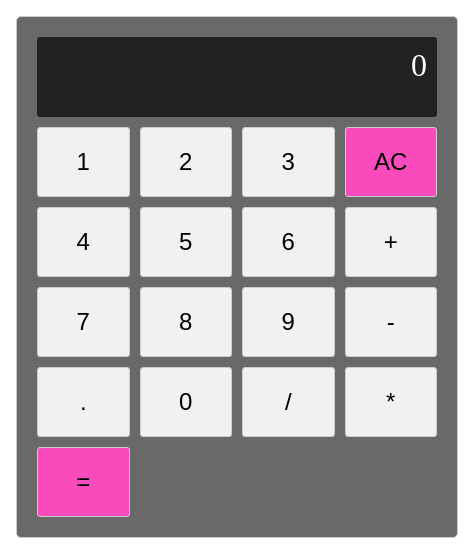
Test: handles decimal input correctly
Click the button "1" at x=83, y=162, box [37,127,130,197]
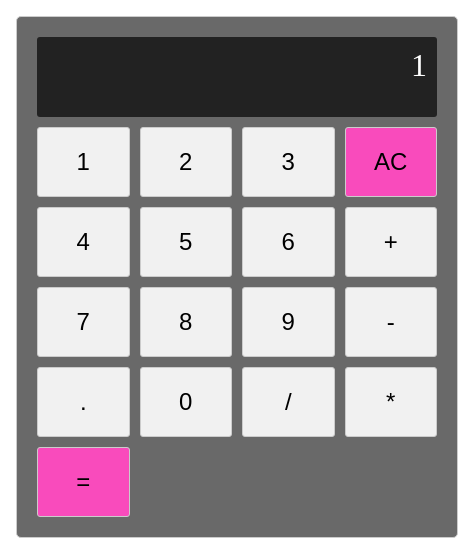
Click the button "." at x=83, y=402, box [37,367,130,437]
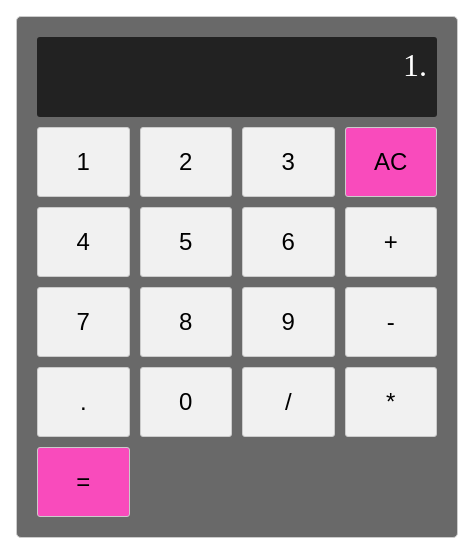
Click the button "2" at x=186, y=162, box [140,127,232,197]
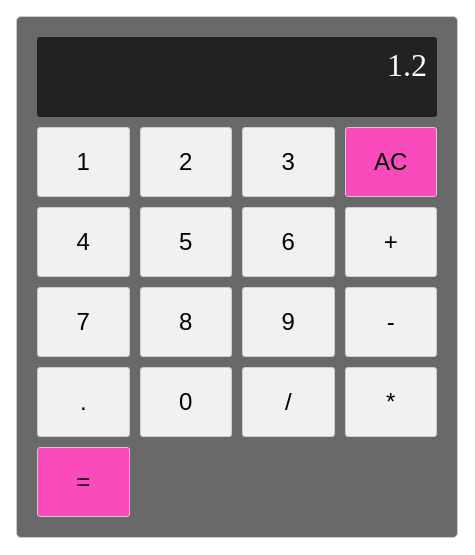
Expected: the text "1.2" is shown, [37,37,437,117]
